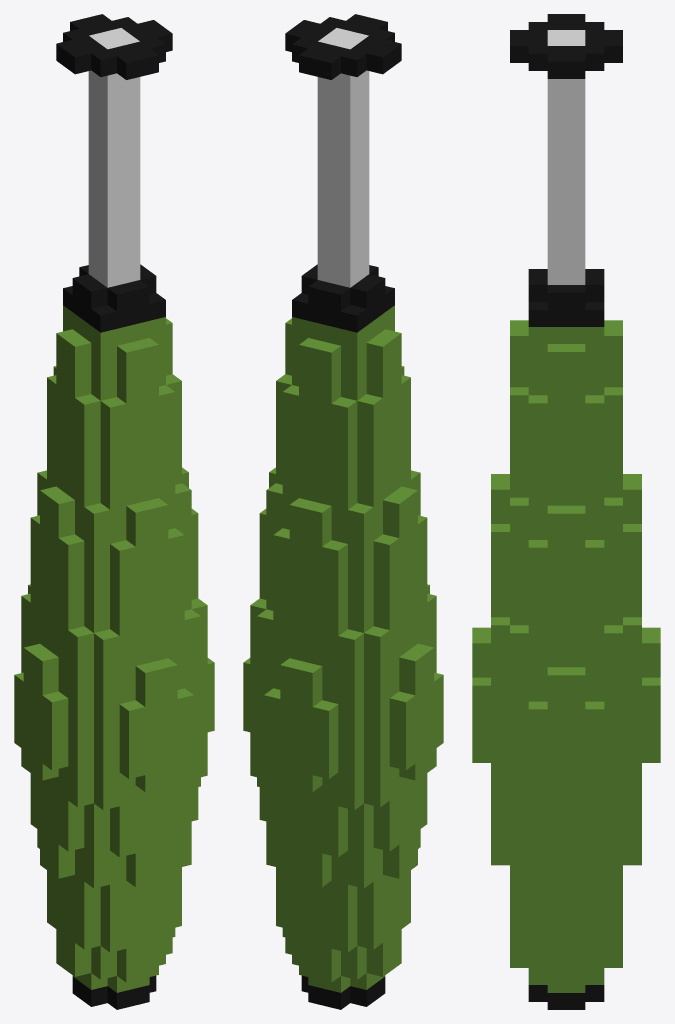
File: sys_balk-0.obj
The picture shows the model from 3 angles, left to right: view 1: azimuth 30°, elevation 25°; view 2: azimuth 150°, elevation 25°; view 3: azimuth 270°, elevation 25°; orthographic projection.
Size of the model in its own units: 1 by 5.6 by 1.
1 material, 1 textured.
